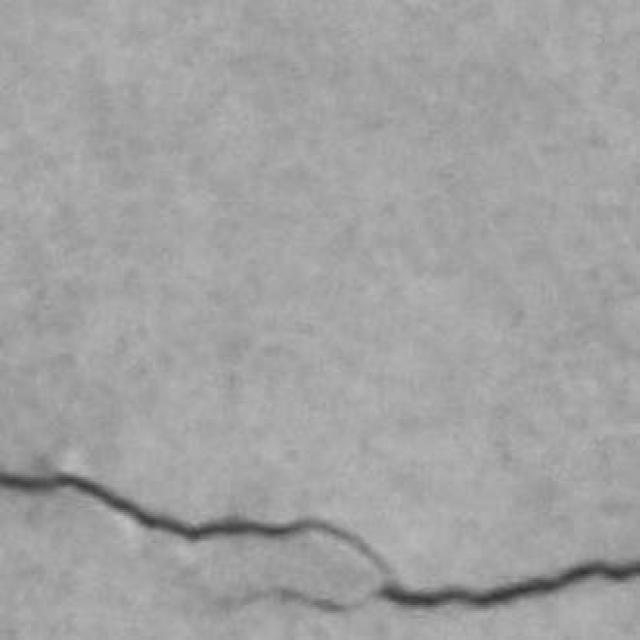crack: (0, 472, 639, 612), (0, 472, 393, 577), (377, 561, 639, 608)
